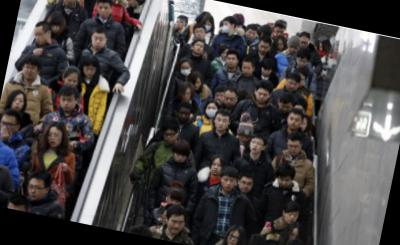with_mask: (204, 104, 220, 118), (179, 64, 192, 76), (203, 21, 213, 33), (222, 22, 232, 33)
without_mask: (166, 216, 186, 236), (25, 182, 46, 201), (58, 95, 77, 114), (45, 130, 63, 148), (21, 64, 39, 81), (161, 129, 179, 146), (214, 115, 231, 133), (96, 3, 113, 20), (248, 138, 265, 155), (220, 176, 237, 192), (10, 96, 26, 112), (91, 34, 107, 50), (222, 94, 238, 110), (286, 142, 302, 158), (238, 178, 253, 195), (283, 210, 299, 225), (33, 30, 48, 45), (287, 115, 302, 130), (276, 176, 293, 189), (82, 65, 97, 79), (177, 110, 191, 125), (240, 63, 254, 78), (254, 91, 269, 105), (210, 161, 223, 177), (284, 79, 300, 92), (225, 55, 239, 69), (64, 75, 79, 88), (172, 152, 187, 165), (167, 196, 182, 209), (193, 27, 207, 40), (226, 232, 240, 245), (192, 41, 205, 54), (213, 91, 225, 105), (238, 132, 252, 144), (278, 103, 292, 115), (257, 43, 270, 55), (181, 89, 192, 103), (295, 57, 309, 68), (245, 30, 257, 42), (49, 23, 62, 34), (261, 66, 272, 77), (299, 38, 310, 49), (192, 79, 202, 91), (288, 231, 299, 241), (299, 120, 308, 132), (274, 27, 284, 37), (173, 19, 182, 30), (276, 40, 285, 51), (287, 45, 298, 54), (161, 213, 169, 225), (220, 50, 229, 60), (299, 76, 306, 88), (318, 44, 326, 53)
